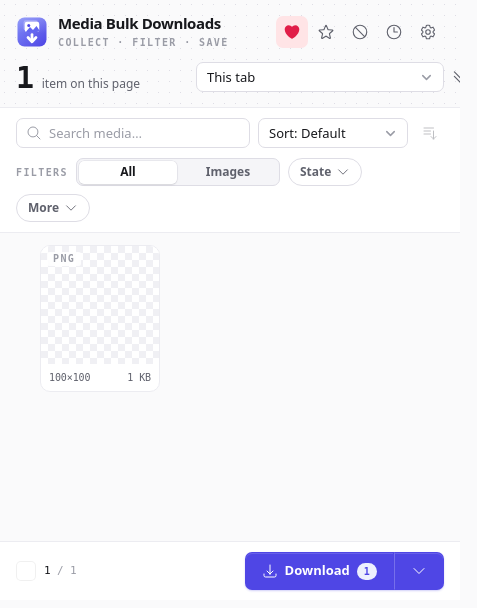
Test: App Component › disables download when a type filter matches nothing
Expected: the text "Filters" is shown, [16,165,68,180]
Click the button "More" at (53, 208), box [16,194,90,222]
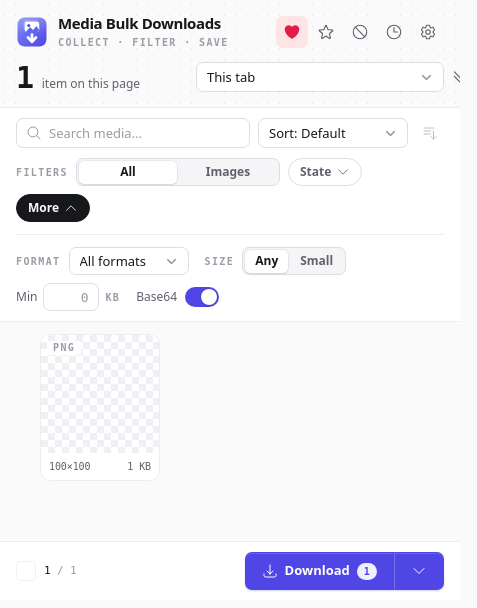
Select "jpeg" in the dropdown named "Media format" at (128, 261), box [68,247,188,275]
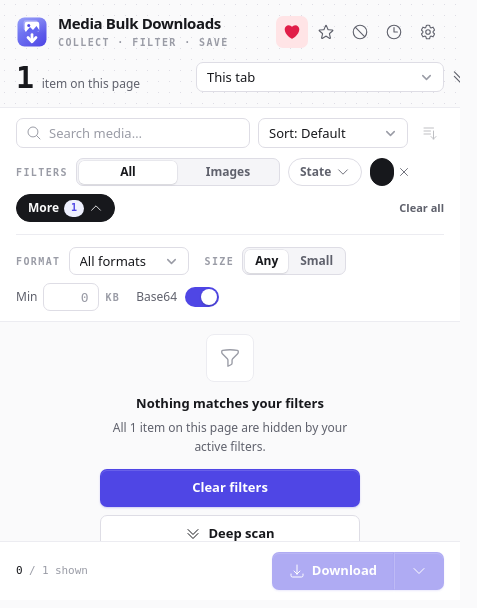
Now the button "Download" is disabled, box [272,552,394,590]
